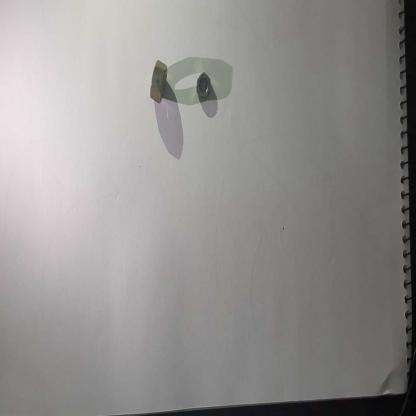NUTS: (145, 54, 174, 112), (192, 63, 216, 107)
